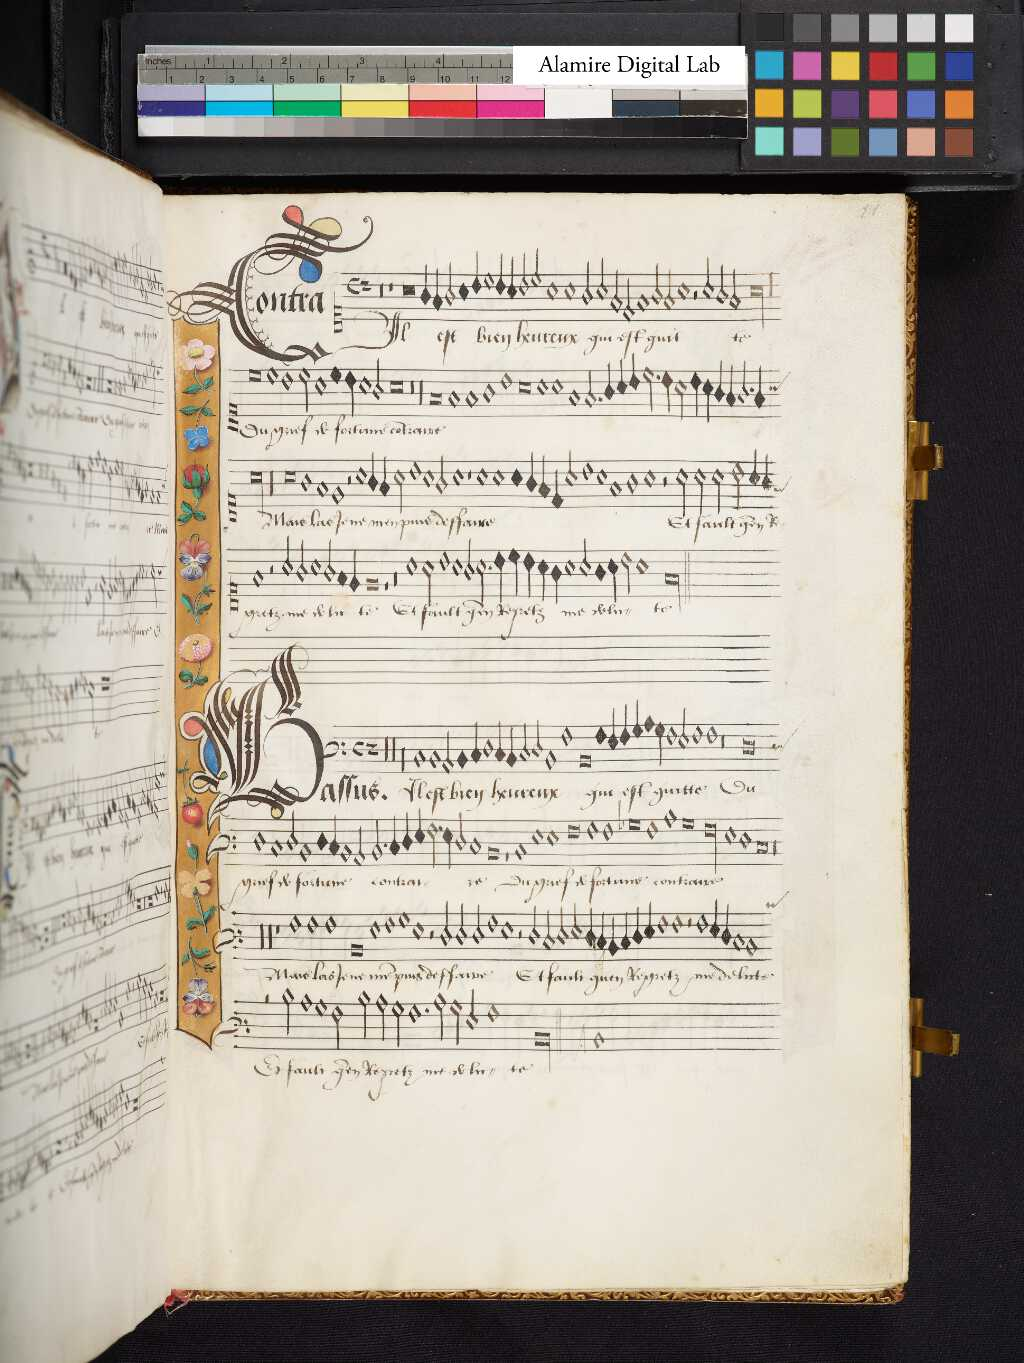2: (365, 734, 382, 764)
Imin: (347, 733, 367, 764)
breve rest: (717, 711, 729, 776)
breve_7: (737, 727, 760, 765)
breve_9: (574, 744, 596, 776)
colored semibreve_3: (641, 706, 657, 736)
colored semibreve_5: (591, 716, 608, 751)
colored semibreve_9: (453, 740, 470, 773)
custos_7: (767, 732, 794, 762)
f clef_7: (321, 733, 346, 768)
longa rest: (379, 716, 389, 783), (388, 716, 398, 783), (401, 725, 409, 787)
minim_10: (441, 720, 456, 780)
minim_6: (677, 700, 691, 753)
minim_7: (530, 712, 545, 759)
minim_8: (520, 714, 534, 765)
semibreve_5: (558, 716, 577, 752), (664, 716, 679, 751), (689, 716, 705, 750), (705, 716, 720, 749)
semibreve_7: (481, 728, 495, 762)
semibreve_9: (542, 742, 560, 778), (411, 740, 427, 773), (428, 740, 443, 773)
semiminim_4: (652, 713, 666, 771), (631, 693, 645, 744)
semiminim_5: (617, 698, 631, 752)
semiminim_6: (606, 700, 618, 756)
semiminim_8: (468, 715, 483, 769), (494, 716, 506, 769)
semiminim_9: (511, 718, 520, 772), (504, 719, 512, 773)
